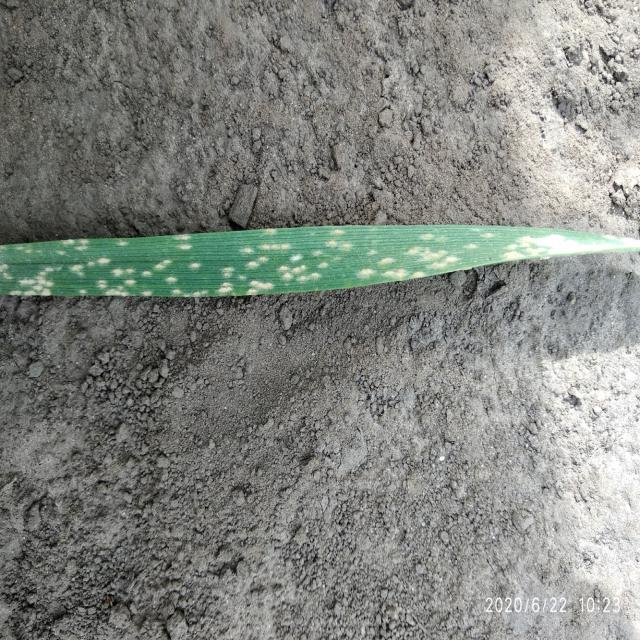wheat-powdery-mildew: (0, 225, 640, 300)
